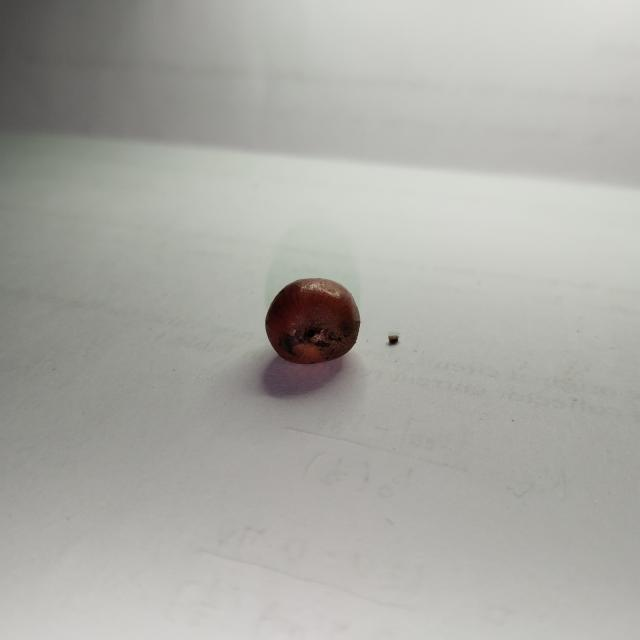Infectado: (265, 279, 362, 366)
